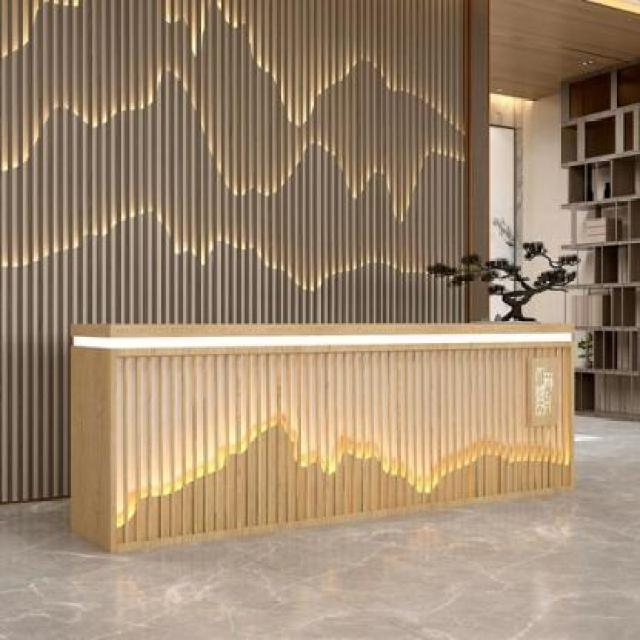frontdesk: (57, 312, 582, 558)
